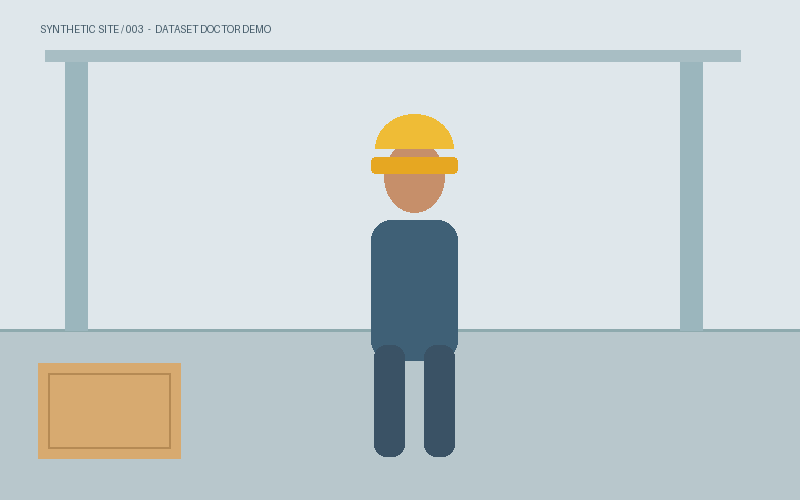Safety-Helmet: (371, 127, 457, 173)
